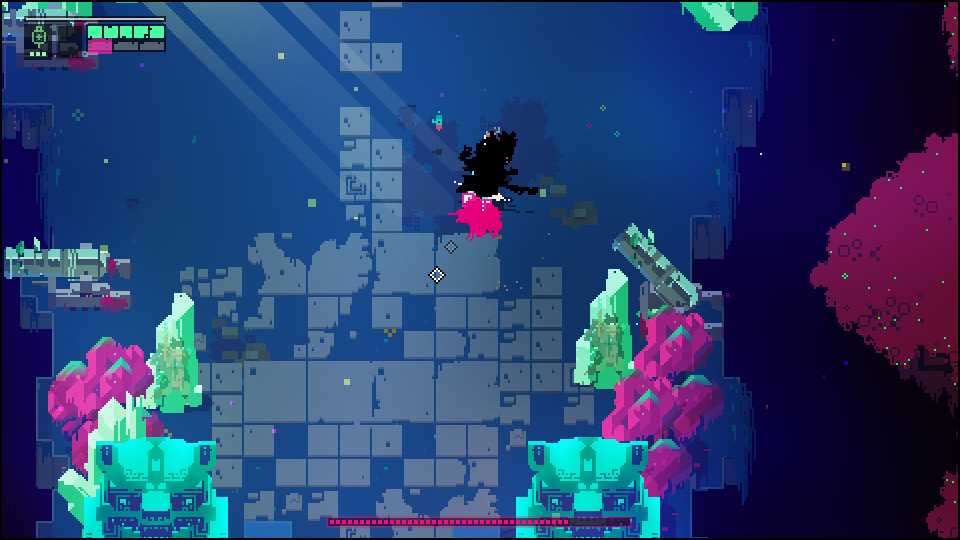hanged_man: (463, 129, 521, 194)
player: (452, 195, 501, 240)
